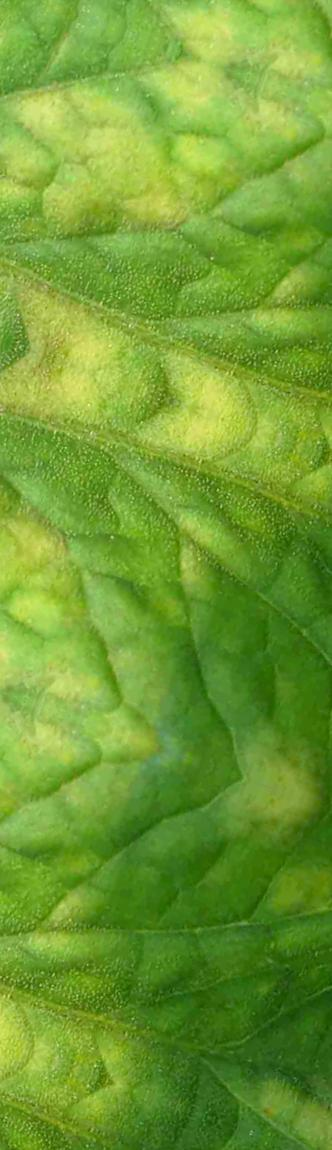Tomato mold leaf: (0, 225, 332, 925)
